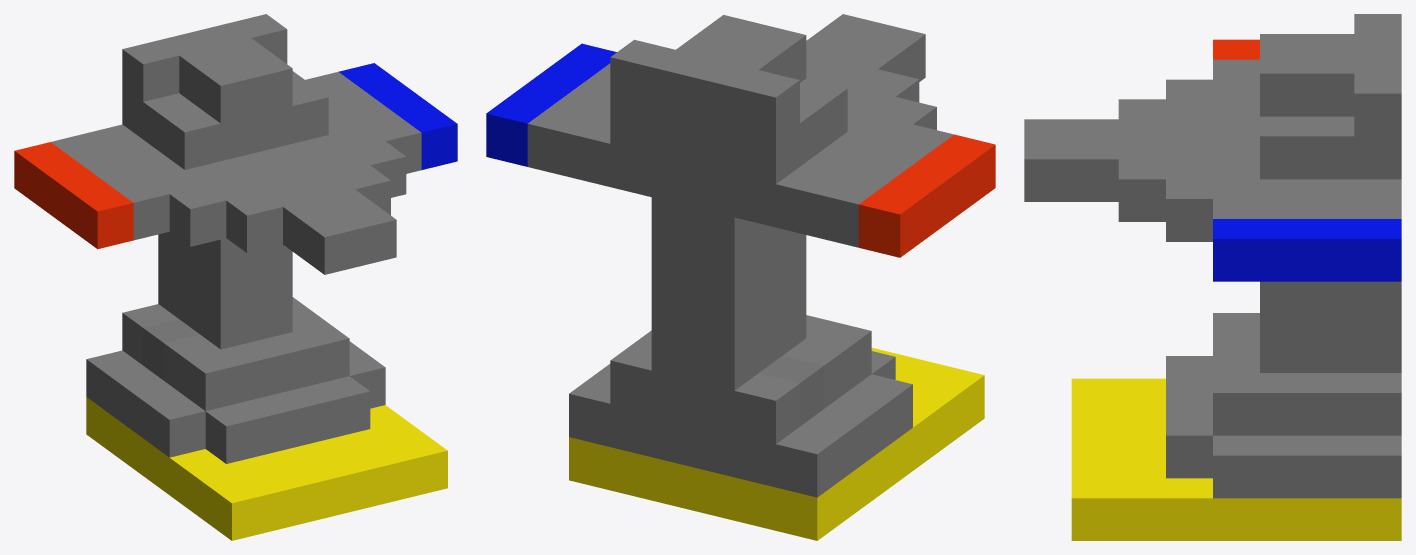
File: moveObject.obj
3 renders of one model, left to right at view 1: azimuth 30°, elevation 25°; view 2: azimuth 150°, elevation 25°; view 3: azimuth 270°, elevation 25°, orthographic. The views are drawn at different scales.
Size of the model in its own units: 1 by 1 by 0.8.
Materials: 1 (1 with a texture image).
